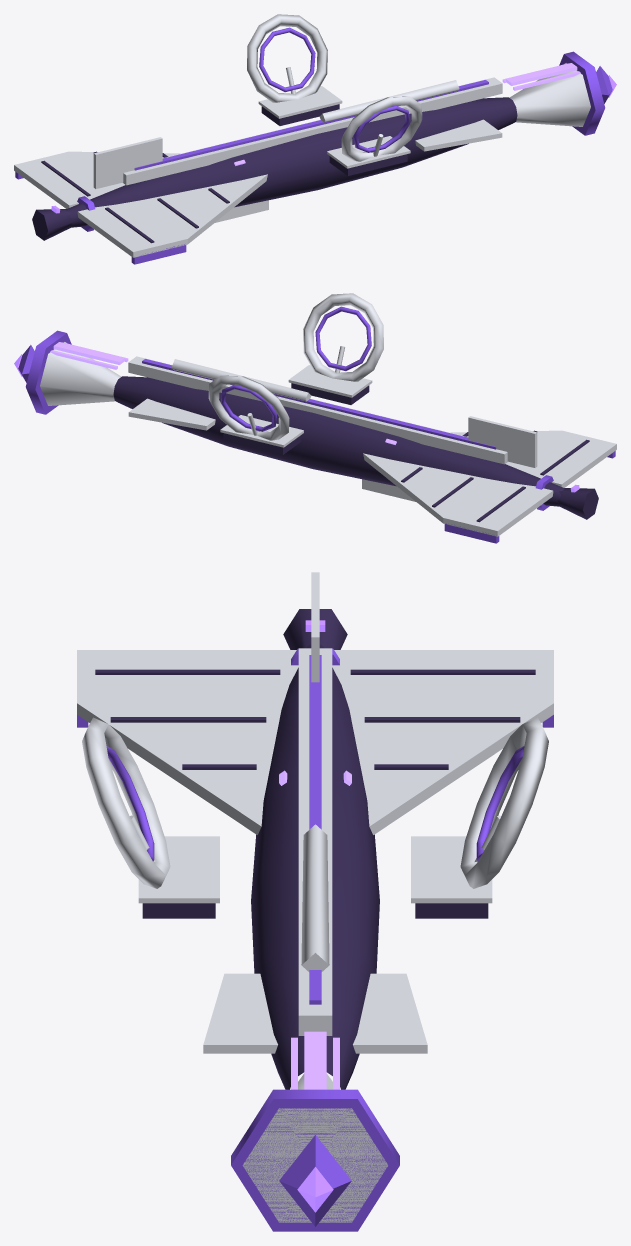
The model's file is responsory-hadron.glb.
The picture shows the model from 3 angles, top to bottom: view 1: azimuth 30°, elevation 25°; view 2: azimuth 150°, elevation 25°; view 3: azimuth 270°, elevation 25°; orthographic projection. The views are drawn at different scales.
Visible parts, largest first — view 1: blade_hull, wing_s, blade_spine, array_horn, wing_p, resonator_ring_p, dorsal_fin, resonator_ring_s, canard_s, spine_inlay, array_lip, cradle_lip_p (+10 smaller); view 2: blade_hull, wing_p, blade_spine, array_horn, wing_s, resonator_ring_s, dorsal_fin, resonator_ring_p, canard_p, spine_inlay, array_lip, cradle_lip_s (+10 smaller); view 3: blade_hull, wing_s, wing_p, array_lip, array_horn, blade_spine, resonator_ring_s, resonator_ring_p, canard_s, canard_p, cradle_lip_s, cradle_lip_p (+15 smaller).
Part boxes in pixels (x1,y1,x2,y2): blade_hull: (66, 97, 517, 227); wing_s: (77, 174, 267, 257); blade_spine: (123, 77, 502, 185); array_horn: (509, 63, 590, 126); wing_p: (14, 151, 180, 208); resonator_ring_p: (247, 14, 327, 102); dorsal_fin: (93, 137, 162, 188); resonator_ring_s: (341, 96, 422, 161); canard_s: (415, 119, 502, 151); spine_inlay: (134, 80, 488, 170); array_lip: (559, 51, 605, 135); cradle_lip_p: (258, 86, 342, 118); blade_hull: (113, 376, 564, 506); wing_p: (363, 453, 553, 536); blade_spine: (128, 356, 507, 464); array_horn: (40, 342, 121, 405); wing_s: (450, 430, 616, 487); resonator_ring_s: (303, 293, 383, 381); dorsal_fin: (468, 416, 537, 467); resonator_ring_p: (208, 375, 289, 440); canard_p: (128, 398, 215, 430); spine_inlay: (142, 359, 496, 449); array_lip: (25, 330, 71, 414); cradle_lip_s: (288, 365, 372, 397); blade_hull: (251, 644, 379, 1089); wing_s: (77, 650, 298, 834); wing_p: (332, 650, 553, 834); array_lip: (231, 1089, 399, 1231); array_horn: (242, 1073, 387, 1222); blade_spine: (298, 648, 332, 1035); resonator_ring_s: (82, 717, 170, 888); resonator_ring_p: (460, 717, 548, 888); canard_s: (203, 973, 277, 1053); canard_p: (353, 973, 427, 1053); cradle_lip_s: (138, 836, 219, 903); cradle_lip_p: (411, 836, 492, 903).
Size of the model in its own units: 95.01 by 21.55 by 34.
